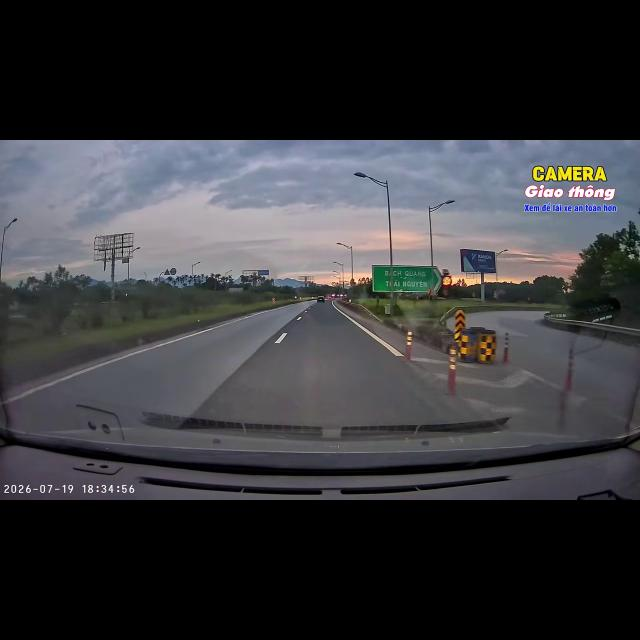car: (317, 296, 324, 302)
